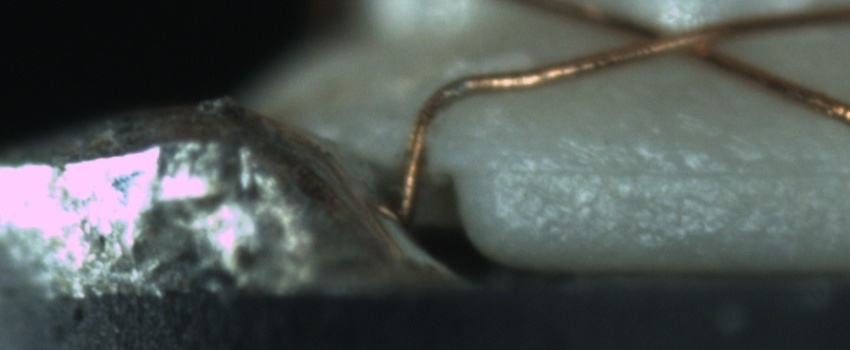CL: (618, 11, 735, 62)
DL: (495, 137, 849, 202)
